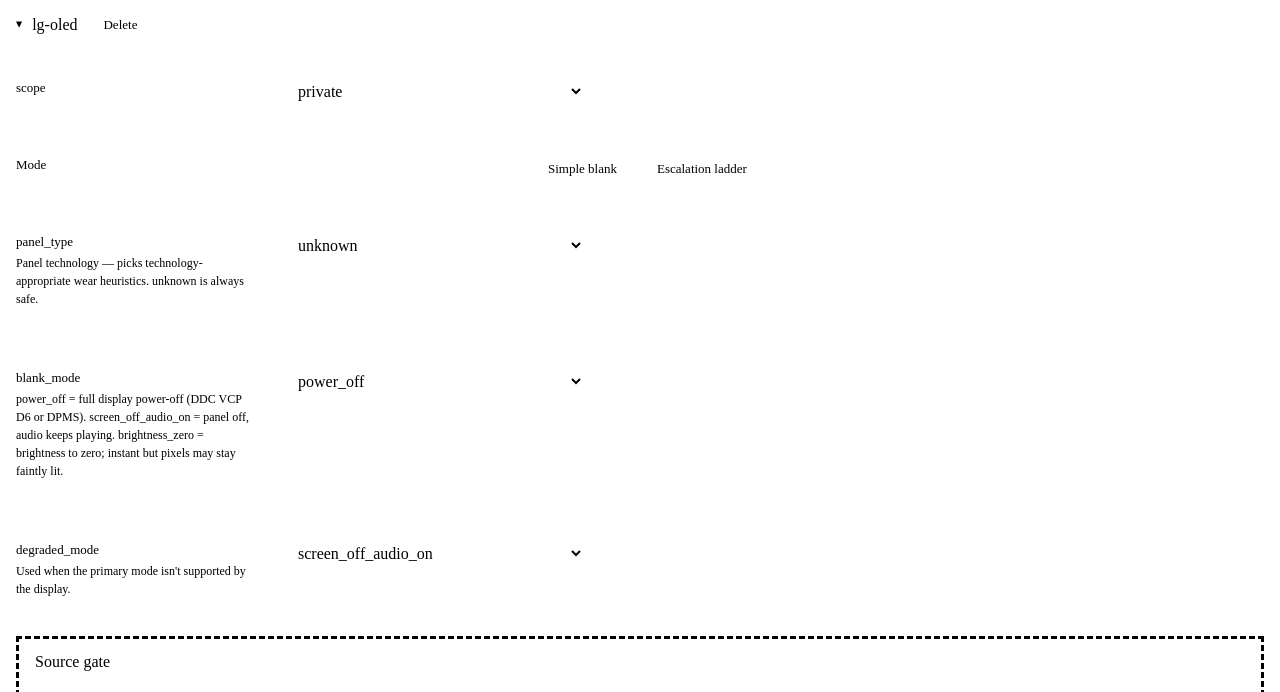
Test case: DisplaysSection — mode switch › queued mode switch — ladder editor visible immediately with 'applies on Apply' hint
This screenshot has width=1280, height=692.
(page scrolled)
expect the text "lg-oled" is shown: met, box [32,16,78,34]
Note: Click "Escalation ladder" → queued mode switch
Step 1. Click the button "Escalation ladder" → (702, 168), box [641,153,763,184]
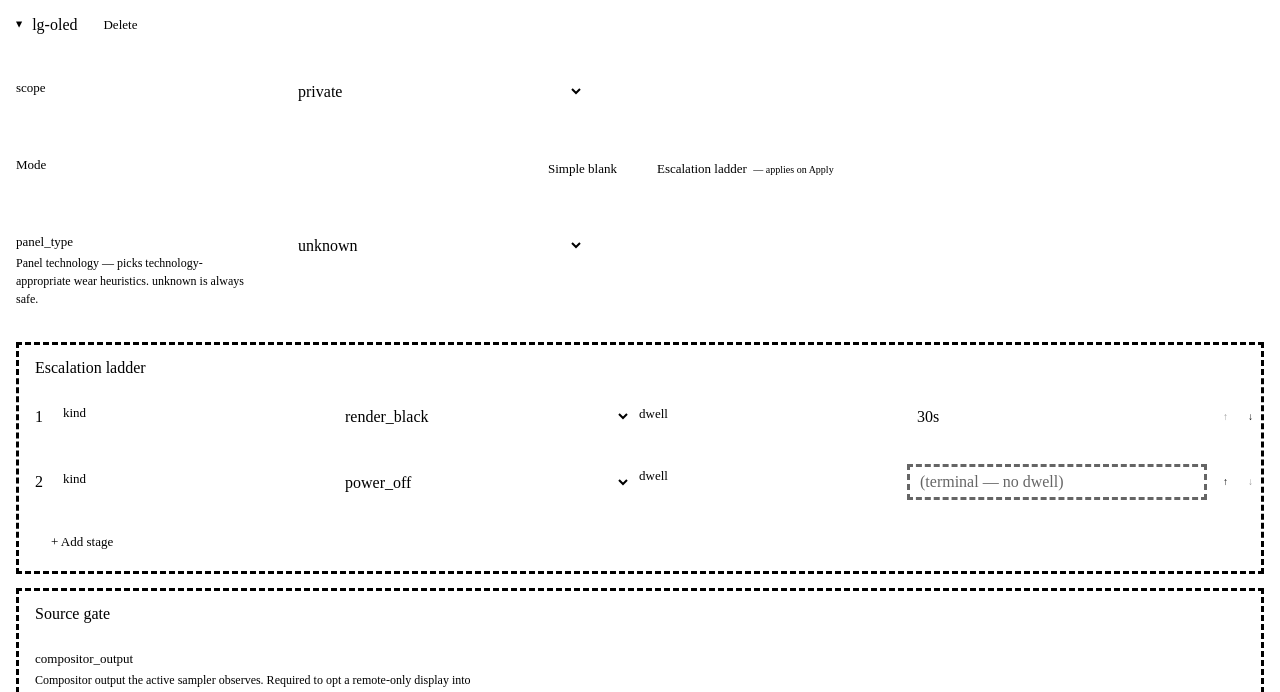
expect the text "— applies on Apply" is shown: met, box [751,164,834,175]
